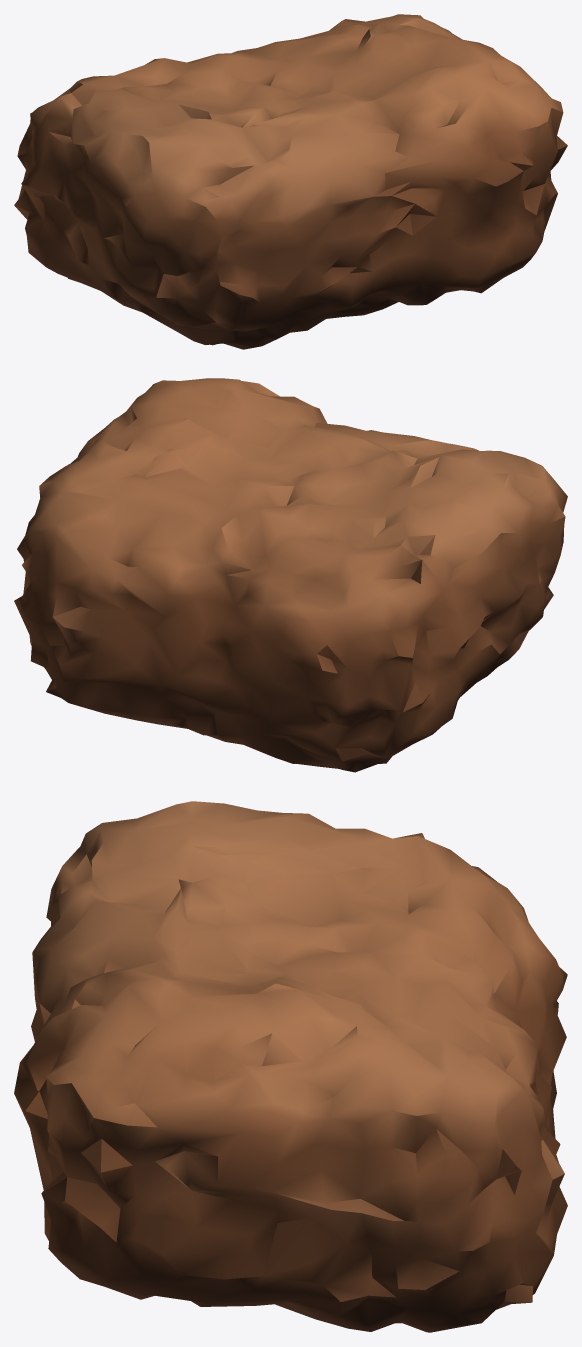
The model's file is canopy_bark_chip_b.glb.
3 renders of one model, top to bottom at view 1: azimuth 30°, elevation 25°; view 2: azimuth 150°, elevation 25°; view 3: azimuth 270°, elevation 25°, orthographic. The views are drawn at different scales.
Visible parts, largest first — view 1: canopy_bark_chip_b; view 2: canopy_bark_chip_b; view 3: canopy_bark_chip_b.
Part boxes in pixels (<box>): canopy_bark_chip_b: <box>14,14,567,349</box>; canopy_bark_chip_b: <box>14,378,567,772</box>; canopy_bark_chip_b: <box>14,801,567,1332</box>.
Bounding box in the file's own units: 4.44 × 2.43 × 3.55.
